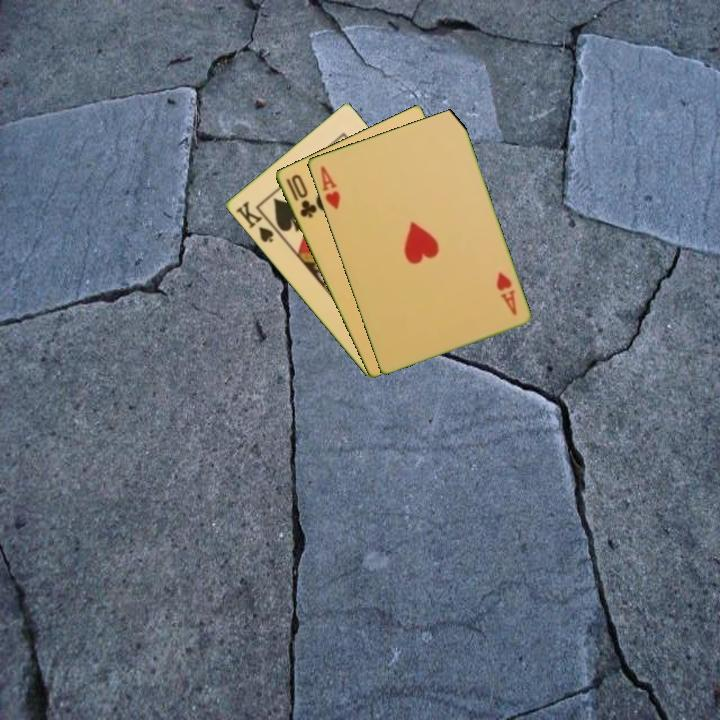10c: (282, 170, 319, 221)
Ah: (316, 162, 343, 212), (492, 268, 519, 318)
Ks: (232, 197, 281, 245)
